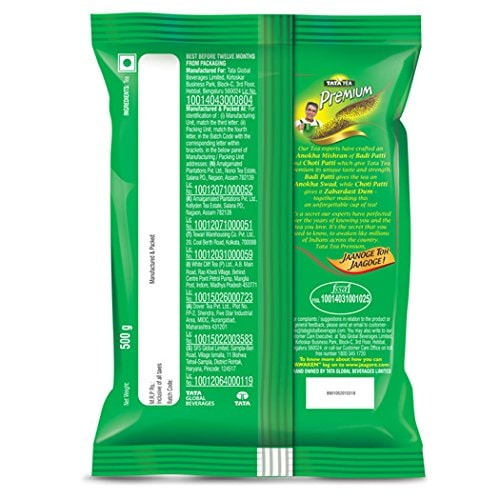fssai: (330, 285, 352, 294)
